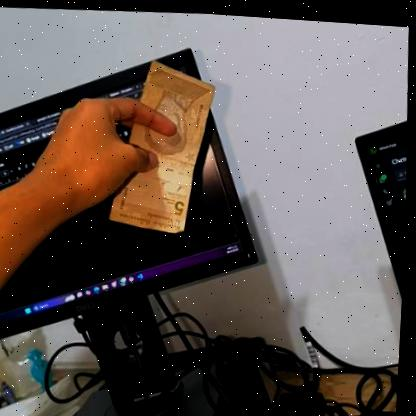five-front-vef: (105, 55, 222, 233)
